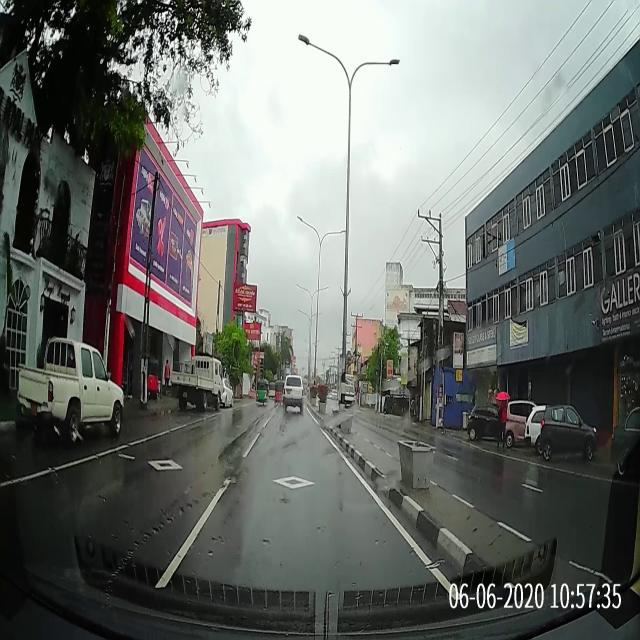diamond: (221, 472, 379, 497)
